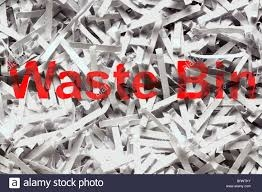paper: (189, 110, 253, 158), (146, 111, 195, 172), (58, 98, 115, 143), (194, 1, 250, 35), (185, 89, 228, 133), (149, 41, 179, 103), (67, 7, 117, 44), (6, 19, 47, 54), (8, 104, 70, 124), (96, 106, 145, 131), (66, 36, 124, 56), (165, 13, 187, 56), (38, 1, 59, 40)
